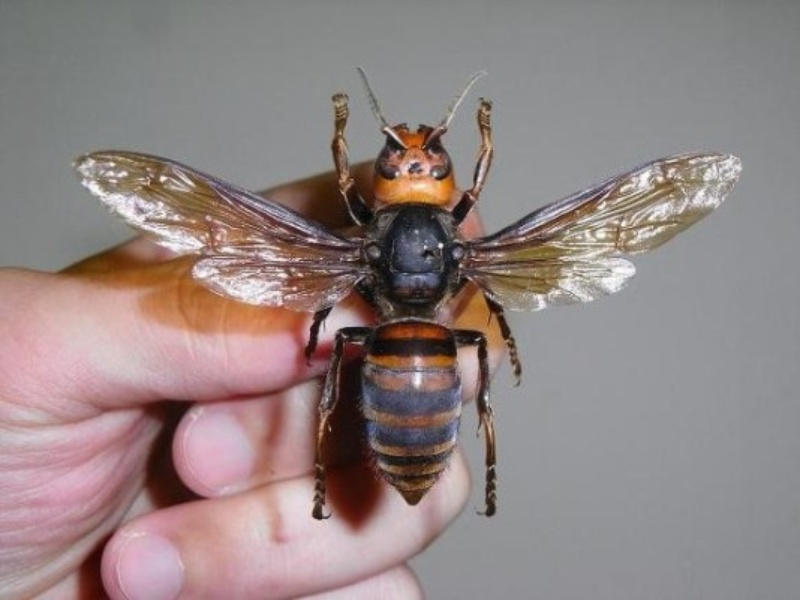asian_giant_hornet: (321, 108, 496, 510)
